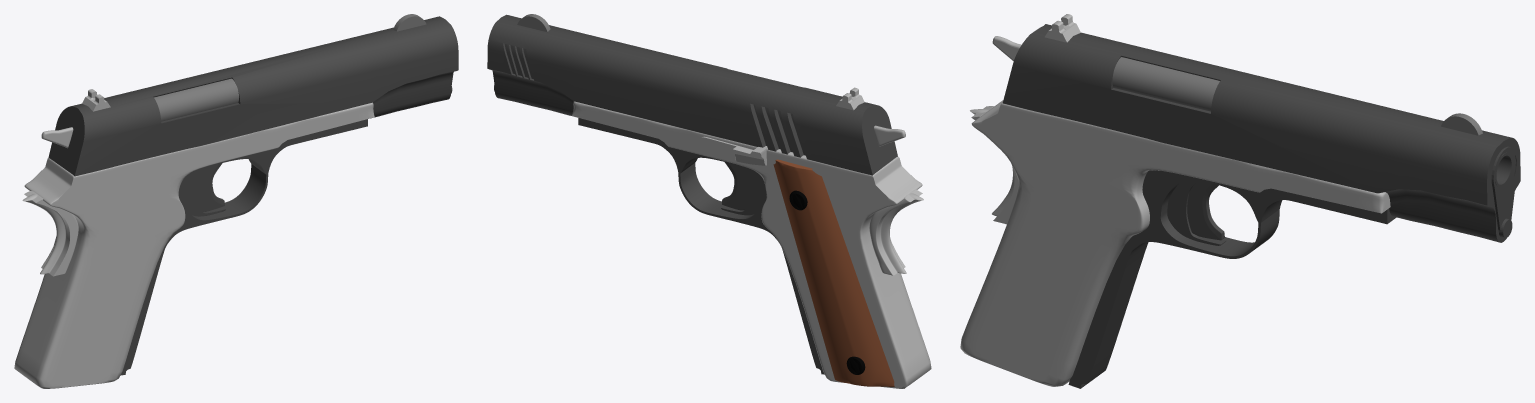
The model's file is pistol.fbx.
3 views of the same model, side by side, from view 1: azimuth 30°, elevation 25°; view 2: azimuth 150°, elevation 25°; view 3: azimuth 330°, elevation 25° (orthographic). The views are drawn at different scales.
Parts seen in each view (by area): view 1: Plane.002, Cylinder, Plane.003, Cylinder.001, Plane, Plane.004, Plane.005; view 2: Cylinder, Plane.002, Plane.001, Plane.003, Plane, Circle, Plane.004, Plane.005, Circle.004, Cube; view 3: Cylinder, Plane.002, Plane.003, Cylinder.001, Plane.004, Circle.001, Plane, Cube, Circle.004.
Boxes of the visible parts, x1,y1,x2,y2 form: Plane.002: (14,102,374,388); Cylinder: (48,16,458,176); Plane.003: (120,119,367,375); Cylinder.001: (154,78,238,121); Plane: (22,191,78,276); Plane.004: (189,163,225,216); Plane.005: (41,127,73,148); Cylinder: (487,14,897,175); Plane.002: (571,101,931,388); Plane.001: (773,159,894,386); Plane.003: (578,118,824,374); Plane: (869,189,923,275); Circle: (697,136,767,165); Plane.004: (721,162,757,215); Plane.005: (874,125,905,146); Circle.004: (517,14,550,32); Cube: (836,87,864,110); Cylinder: (1002,24,1520,242); Plane.002: (960,100,1390,386); Plane.003: (1068,170,1396,388); Cylinder.001: (1112,57,1219,111); Plane.004: (1167,178,1225,245); Circle.001: (1491,146,1517,237); Plane: (970,106,1018,224); Cube: (1045,14,1080,42); Circle.004: (1441,113,1482,135).
Size of the model in its own units: 4474 by 2828 by 591.
